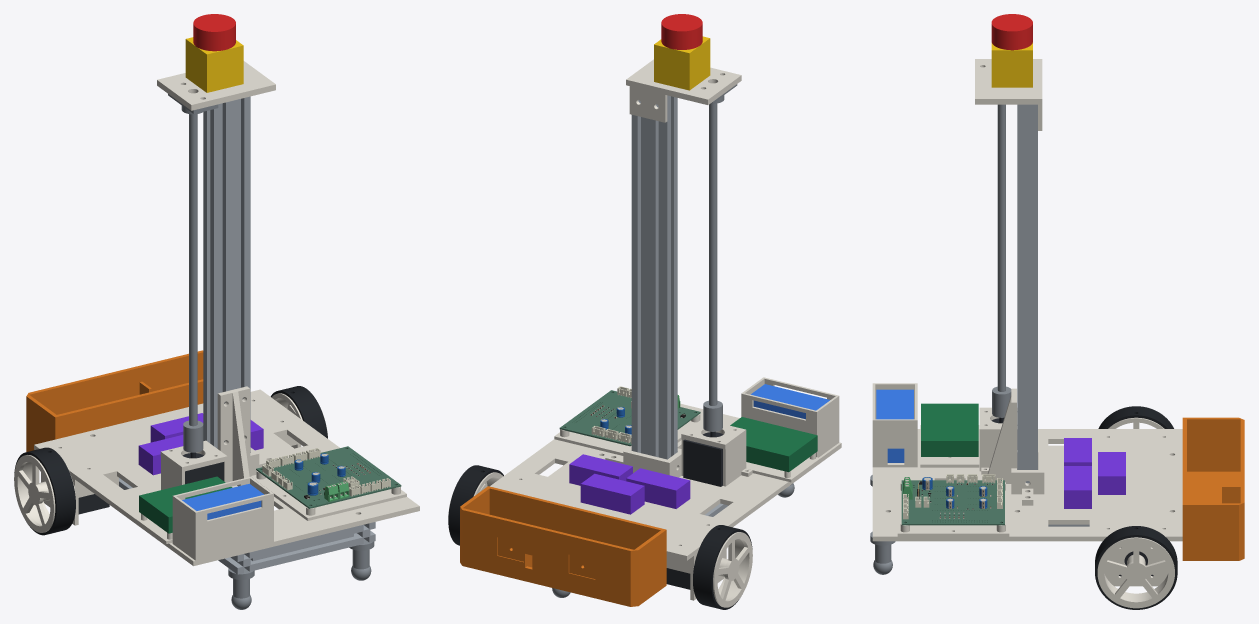
The model's file is robot_base.glb.
The picture shows the model from 3 angles, left to right: view 1: azimuth 30°, elevation 25°; view 2: azimuth 150°, elevation 25°; view 3: azimuth 270°, elevation 25°; orthographic projection. The views are drawn at different scales.
Parts seen in each view (by area): view 1: robot_base (×13); view 2: robot_base (×13); view 3: robot_base (×12).
Part boxes in pixels (x1,y1,x2,y2): robot_base (×13): (14,14,419,609); robot_base (×13): (448,14,841,609); robot_base (×12): (870,14,1244,609).
Bounding box in the file's own units: 0.298 × 0.548 × 0.3625.
